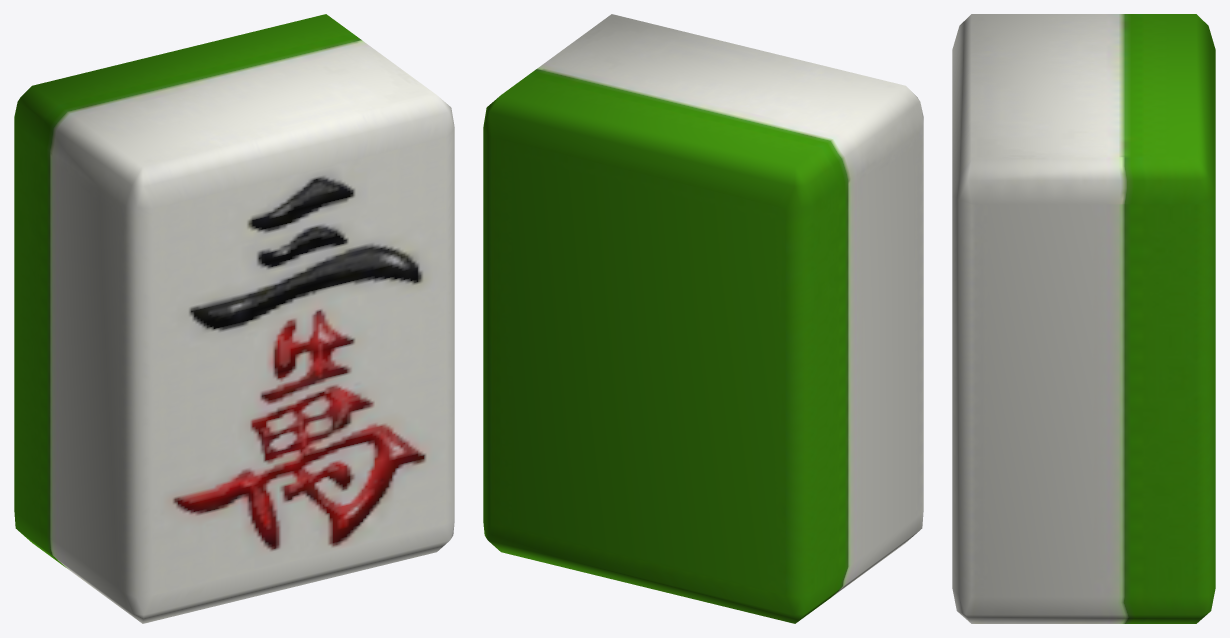
The model's file is mj_wan3.FBX.
3 renders of one model, left to right at view 1: azimuth 30°, elevation 25°; view 2: azimuth 150°, elevation 25°; view 3: azimuth 270°, elevation 25°, orthographic.
Visible parts, largest first — view 1: default097; view 2: default097; view 3: default097.
Boxes of the visible parts, x1,y1,x2,y2 form: default097: (14,14,454,623); default097: (483,14,923,623); default097: (952,14,1215,623).
Bounding box in the file's own units: 0.0339 × 0.045 × 0.0232.
Materials: 1 (1 with a texture image).
